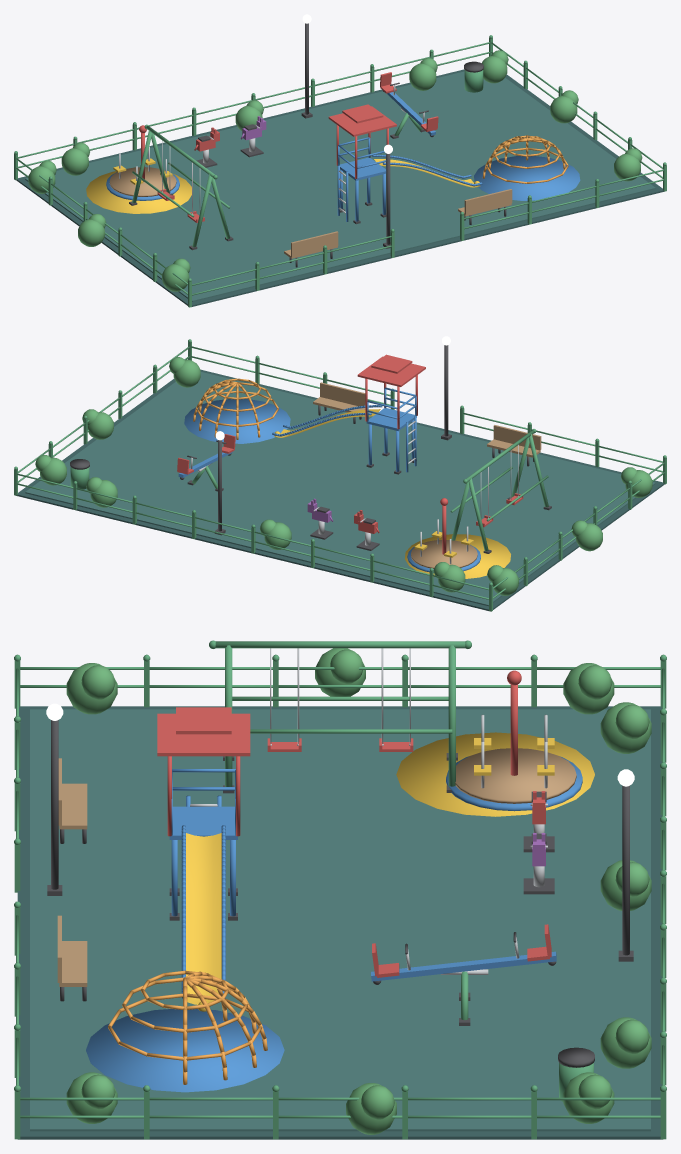
Rendered from taman-bermain-blender-v1.glb.
3 renders of one model, top to bottom at view 1: azimuth 30°, elevation 25°; view 2: azimuth 150°, elevation 25°; view 3: azimuth 270°, elevation 25°, orthographic. The views are drawn at different scales.
Visible parts, largest first — view 1: Mat, Fence, Bushes, SlidePlatform, SwingFrame, Carousel, ClimbingDome, LampPosts, Bench2, Bench1, WaveSlide, SeesawBeam (+3 smaller); view 2: Mat, Fence, Bushes, SlidePlatform, Carousel, SwingFrame, ClimbingDome, Bench2, LampPosts, Bench1, WaveSlide, SeesawBeam (+3 smaller); view 3: Mat, Bushes, Fence, SlidePlatform, Carousel, WaveSlide, SwingFrame, ClimbingDome, LampPosts, SeesawBeam, Bench2, Bench1 (+5 smaller).
Boxes of the visible parts, <box> form: Mat: <box>16,69,663,306</box>; Fence: <box>14,35,666,307</box>; Bushes: <box>28,50,642,291</box>; SlidePlatform: <box>328,104,396,224</box>; SwingFrame: <box>129,124,233,250</box>; Carousel: <box>106,125,179,200</box>; ClimbingDome: <box>482,135,568,183</box>; LampPosts: <box>301,14,392,248</box>; Bench2: <box>458,189,512,224</box>; Bench1: <box>284,231,338,267</box>; WaveSlide: <box>372,154,482,187</box>; SeesawBeam: <box>380,72,438,137</box>; Mat: <box>16,369,664,610</box>; Fence: <box>14,339,666,611</box>; Bushes: <box>35,357,652,595</box>; SlidePlatform: <box>357,354,425,474</box>; Carousel: <box>407,498,480,572</box>; SwingFrame: <box>450,429,551,553</box>; ClimbingDome: <box>193,378,278,439</box>; Bench2: <box>313,382,365,423</box>; LampPosts: <box>214,336,451,535</box>; Bench1: <box>487,425,541,466</box>; WaveSlide: <box>272,405,382,437</box>; SeesawBeam: <box>177,434,235,479</box>; Mat: <box>17,706,662,1139</box>; Bushes: <box>66,648,651,1134</box>; Fence: <box>14,654,666,1139</box>; SlidePlatform: <box>157,707,250,920</box>; Carousel: <box>446,670,582,811</box>; WaveSlide: <box>181,825,225,1011</box>; SwingFrame: <box>209,640,471,793</box>; ClimbingDome: <box>108,970,267,1084</box>; LampPosts: <box>46,703,634,961</box>; SeesawBeam: <box>371,924,556,984</box>; Bench2: <box>57,915,87,1001</box>; Bench1: <box>58,758,87,843</box>.
Bounding box in the file's own units: 17.53 × 3.44 × 10.51.
